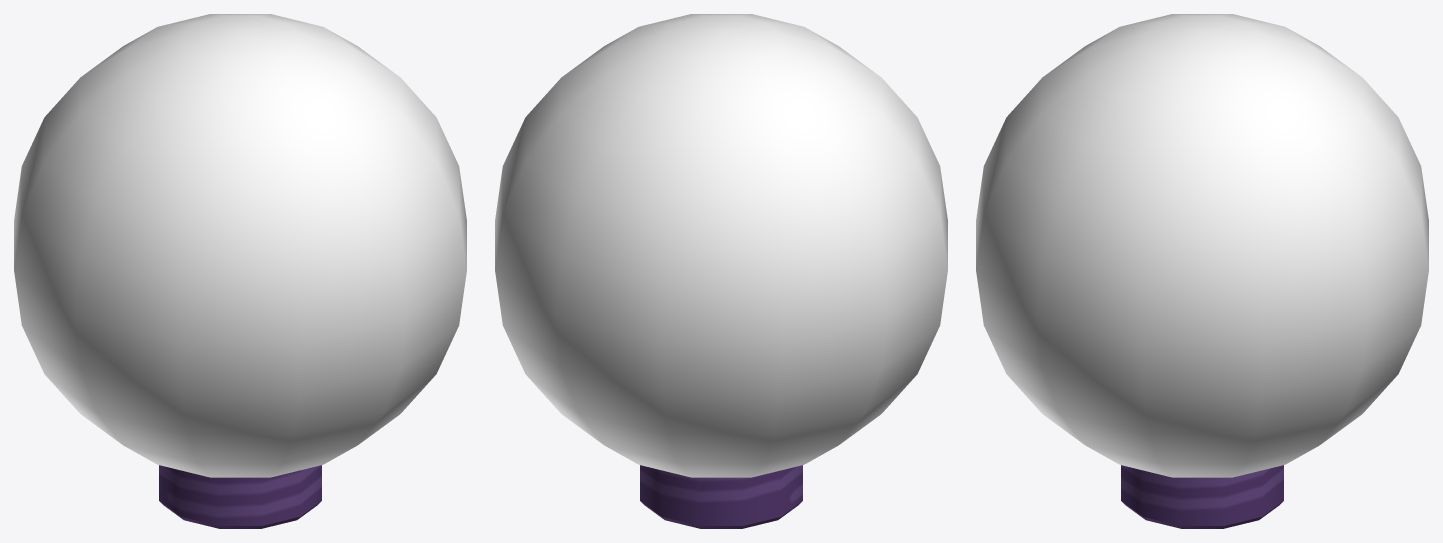
File: lightbulb.dae
3 views of the same model, side by side, from view 1: azimuth 30°, elevation 25°; view 2: azimuth 150°, elevation 25°; view 3: azimuth 270°, elevation 25° (orthographic).
Parts seen in each view (by area): view 1: Lightbulb; view 2: Lightbulb; view 3: Lightbulb.
Part boxes in pixels (x1,y1,x2,y2): Lightbulb: (14, 14, 466, 528); Lightbulb: (495, 14, 947, 528); Lightbulb: (976, 14, 1428, 528).
Bounding box in the file's own units: 0.3822 × 0.3822 × 0.4311.
1 material, 1 textured.
